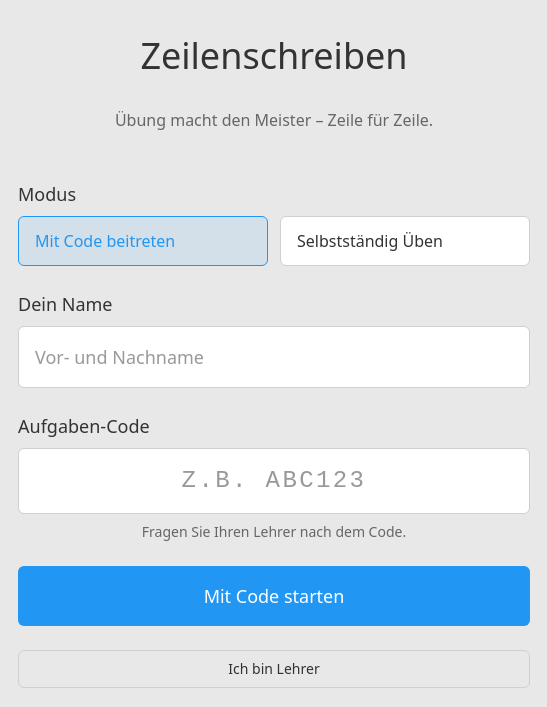
Test: StudentForm › Validation — self practice mode › switches to self practice mode
Click the button "Selbstständig Üben": (405, 241) [280, 216, 530, 266]
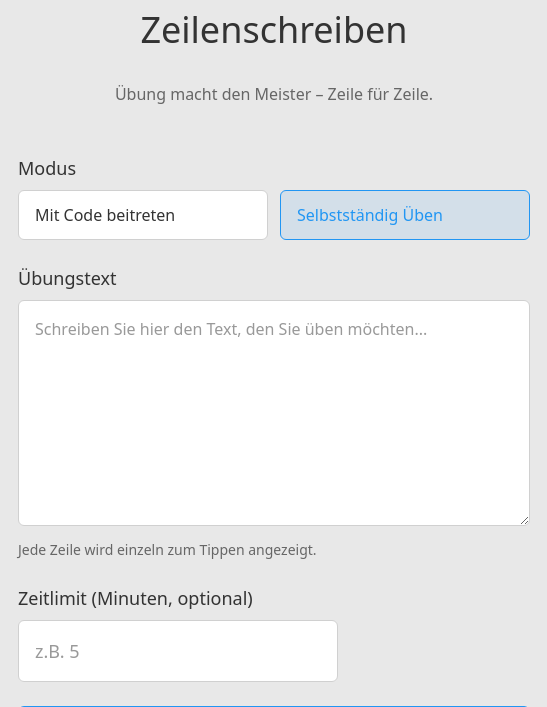
Now the text box with placeholder "Schreiben Sie hier den Text, den Sie üben möchten..." is shown, box [18, 300, 530, 526]
